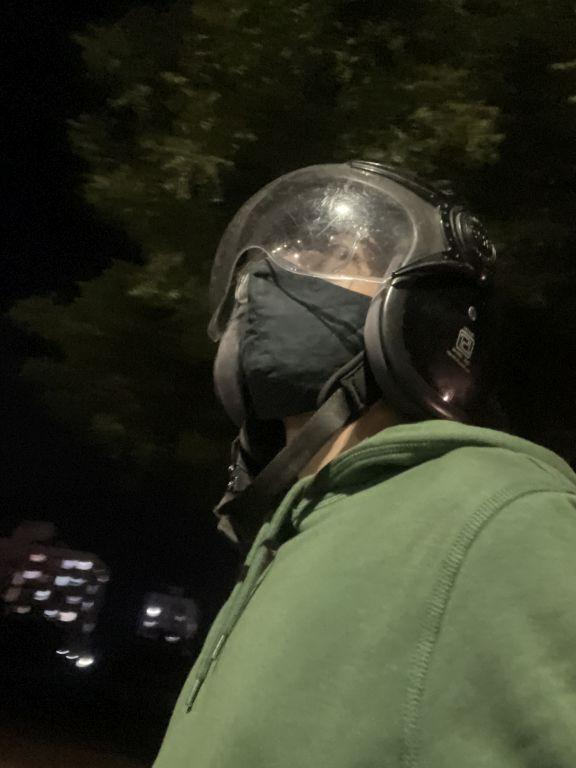helmet: (179, 147, 556, 433)
